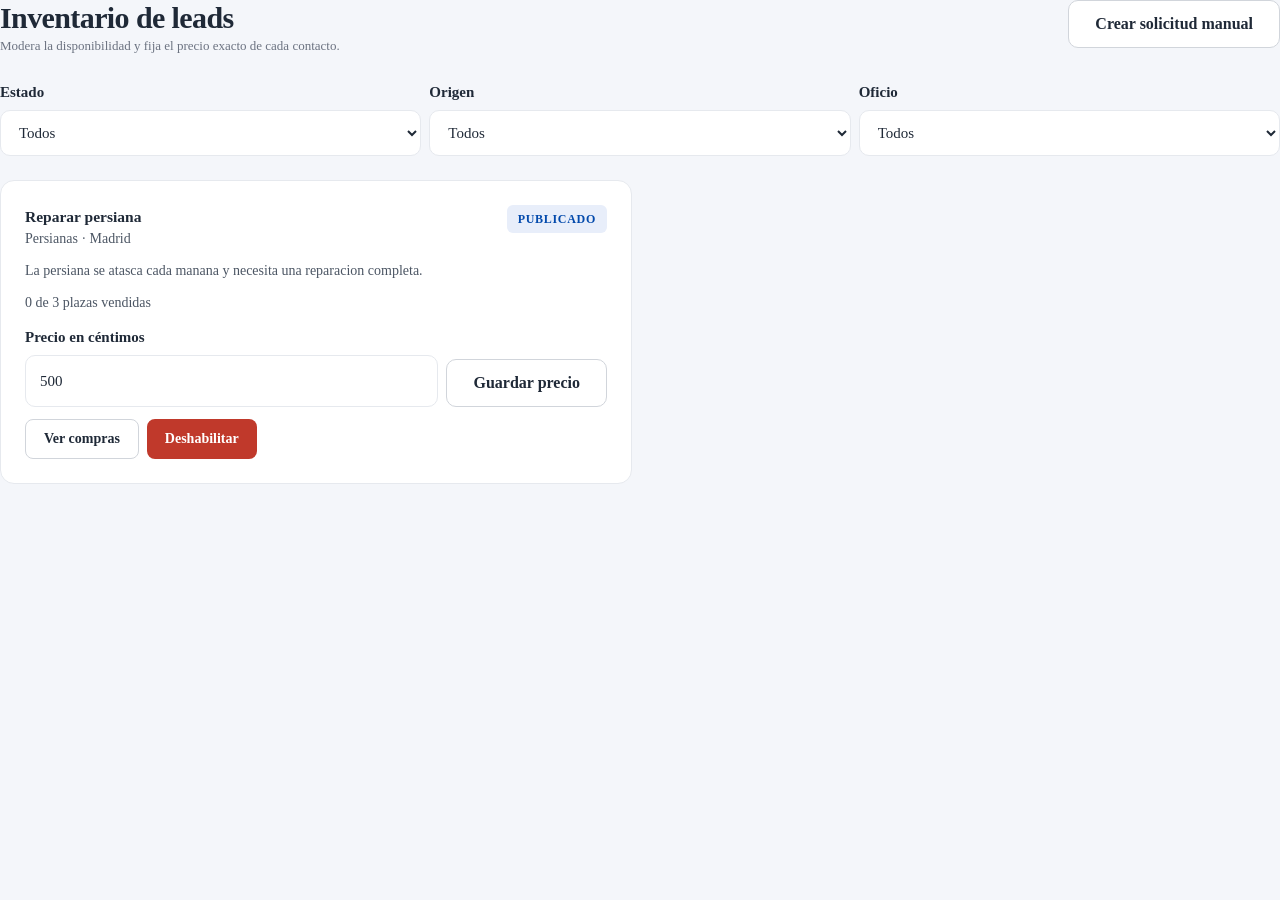
AdminLeads › opens the purchases of a lead in a dialog
Check: the heading "Reparar persiana" is shown, box [25, 204, 141, 229]
Click the button "Ver compras". click: (82, 439)
box: [25, 419, 139, 459]
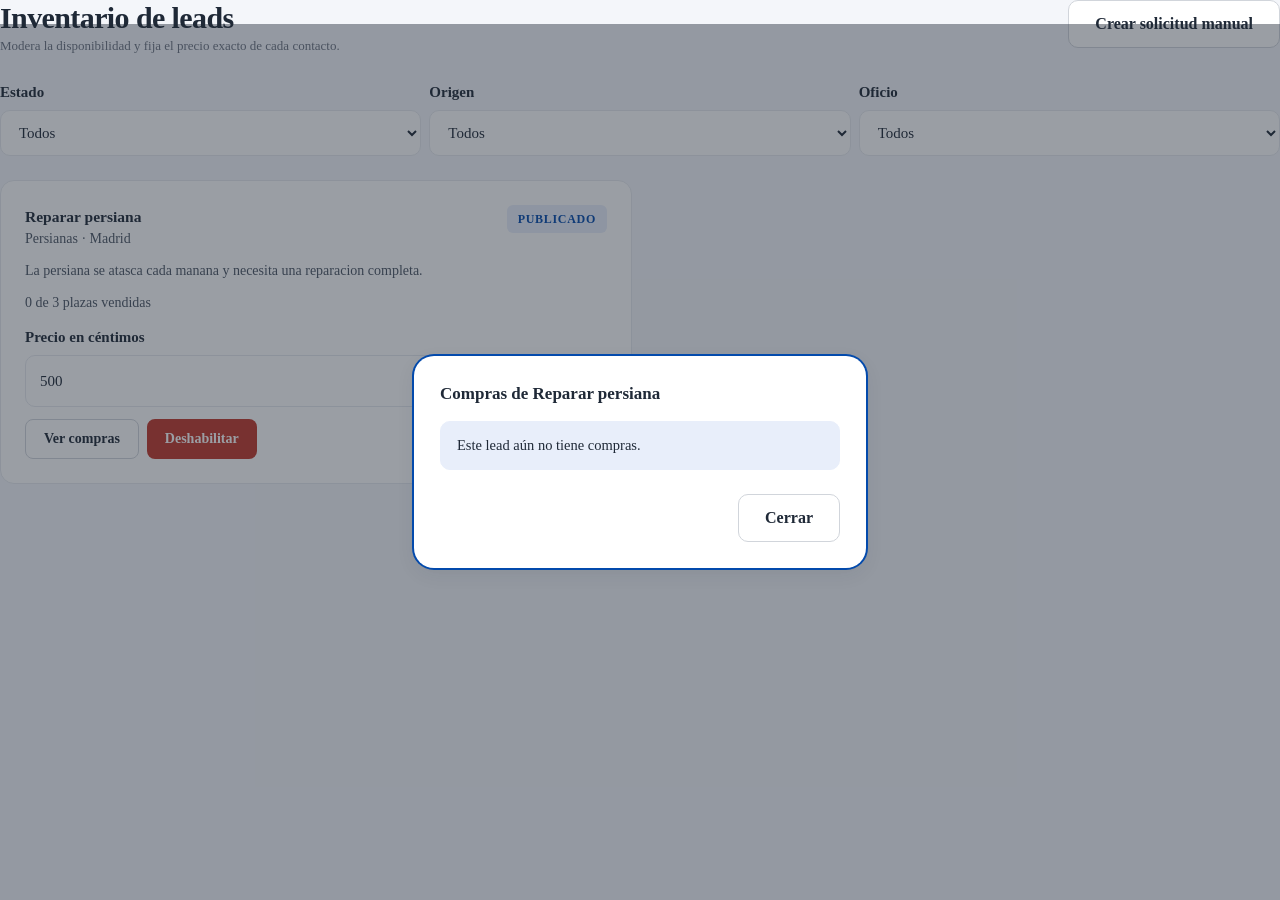
Check: the dialog shows "Este lead aún no tiene compras.", box [457, 437, 641, 453]
